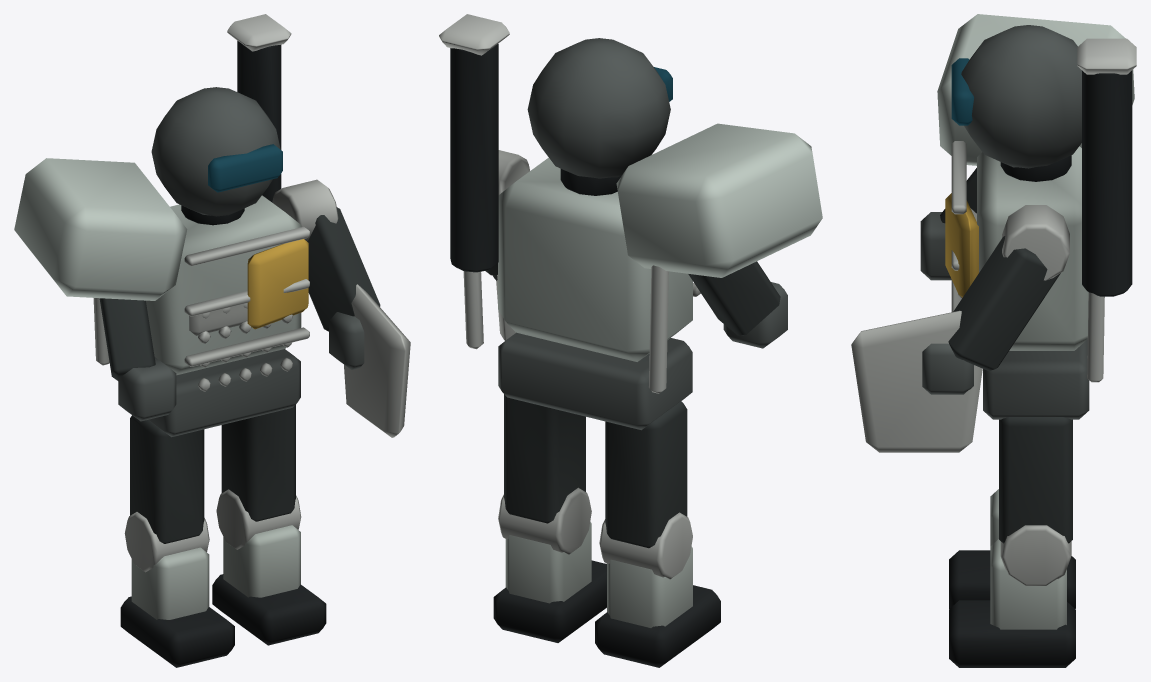
File: scrapper.glb
The picture shows the model from 3 angles, left to right: view 1: azimuth 30°, elevation 25°; view 2: azimuth 150°, elevation 25°; view 3: azimuth 270°, elevation 25°; orthographic projection. The views are drawn at different scales.
Parts seen in each view (by area): view 1: Salvaged_pauldron, Torso, Helmet, Arms, Upper_leg, Pelvis, Upper_leg.001, Salvage_cutter, Boot.001, Boot, Shin, Hands (+13 smaller); view 2: Salvaged_pauldron, Torso, Helmet, Pelvis, Exhaust, Upper_leg, Upper_leg.001, Boot, Shin.001, Shin, Boot.001, Arms (+7 smaller); view 3: Helmet, Salvage_cutter, Exhaust, Torso, Upper_leg.001, Arms, Pelvis, Boot.001, Salvaged_pauldron, Shin.001, Hands, Knee.001 (+9 smaller).
Part boxes in pixels (<box>): Salvaged_pauldron: <box>14,158,187,300</box>; Torso: <box>146,195,301,375</box>; Helmet: <box>151,87,280,216</box>; Arms: <box>99,207,380,380</box>; Upper_leg: <box>130,415,204,543</box>; Pelvis: <box>148,349,300,437</box>; Upper_leg.001: <box>221,405,295,521</box>; Salvage_cutter: <box>344,284,410,437</box>; Boot.001: <box>212,574,326,645</box>; Boot: <box>120,596,234,667</box>; Shin: <box>131,547,209,619</box>; Hands: <box>118,312,364,421</box>; Salvaged_pauldron: <box>616,123,822,277</box>; Torso: <box>498,157,692,361</box>; Helmet: <box>527,38,670,178</box>; Pelvis: <box>498,332,692,430</box>; Exhaust: <box>450,44,498,272</box>; Upper_leg: <box>605,401,687,548</box>; Upper_leg.001: <box>504,394,585,523</box>; Boot: <box>595,585,720,667</box>; Shin.001: <box>505,522,591,603</box>; Shin: <box>607,546,692,627</box>; Boot.001: <box>493,560,606,642</box>; Arms: <box>485,261,780,335</box>; Helmet: <box>961,25,1081,168</box>; Salvage_cutter: <box>851,310,982,452</box>; Exhaust: <box>1082,70,1132,296</box>; Torso: <box>977,146,1088,350</box>; Upper_leg.001: <box>999,417,1072,543</box>; Arms: <box>940,168,1060,370</box>; Pelvis: <box>983,339,1089,419</box>; Boot.001: <box>949,600,1075,667</box>; Salvaged_pauldron: <box>937,14,1134,165</box>; Shin.001: <box>990,539,1066,629</box>; Hands: <box>920,212,973,394</box>; Knee.001: <box>1000,525,1071,585</box>.
Bounding box in the file's own units: 1.38 × 2.33 × 0.9646.
